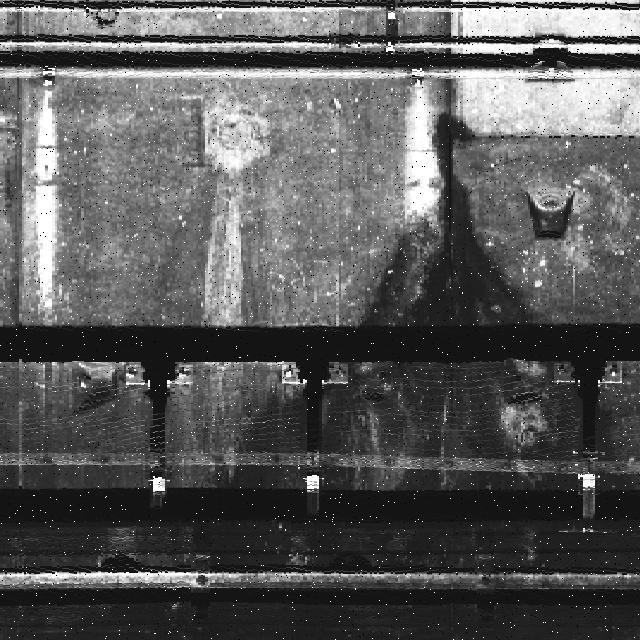leakage: (232, 110, 575, 492)
